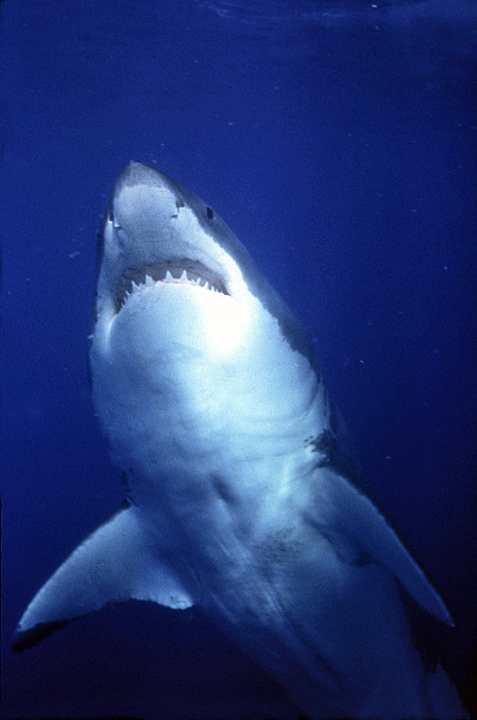Carcharodon_carcharias: (6, 155, 477, 719)
